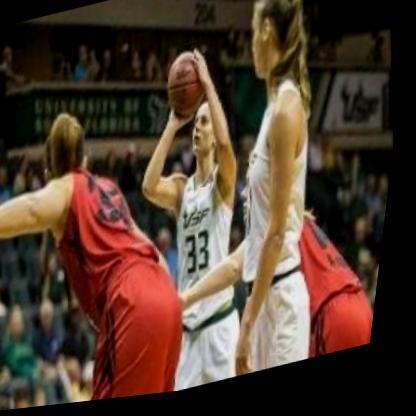basketball: (155, 46, 217, 129)
